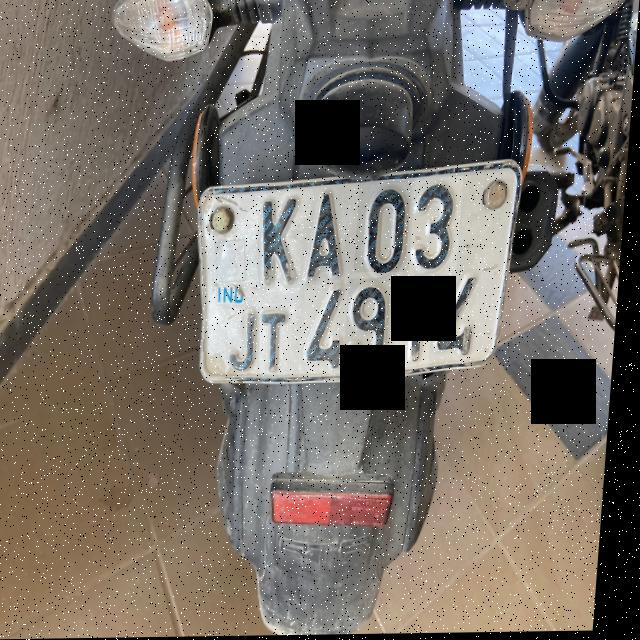0: (358, 182, 415, 274)
1: (398, 279, 439, 374)
3: (413, 177, 466, 277)
4: (304, 288, 359, 380), (436, 276, 484, 365)
9: (348, 279, 399, 375)
A: (310, 189, 354, 292)
J: (232, 308, 268, 379)
K: (253, 192, 310, 296)
T: (260, 304, 299, 377)
